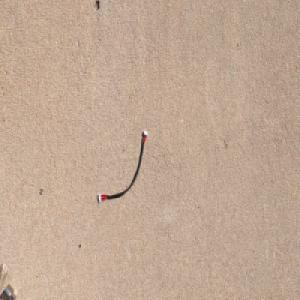Wire: (97, 129, 148, 205)
